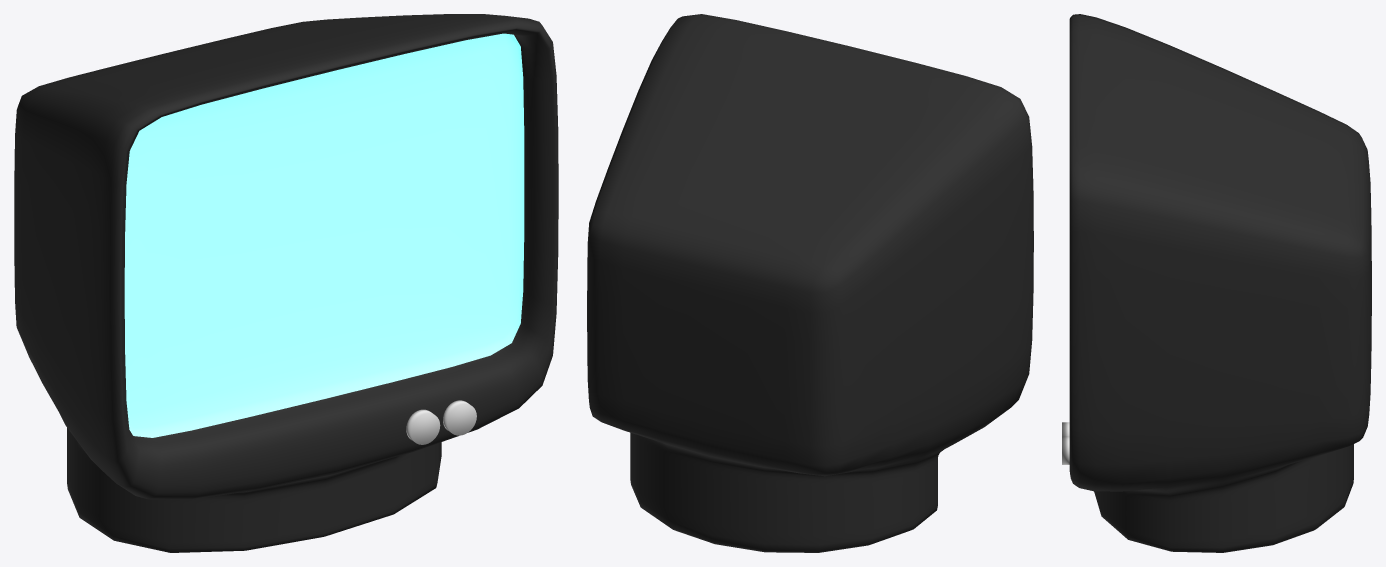
3 views of the same model, side by side, from view 1: azimuth 30°, elevation 25°; view 2: azimuth 150°, elevation 25°; view 3: azimuth 270°, elevation 25° (orthographic). The views are drawn at different scales.
Parts seen in each view (by area): view 1: TV, Button2, Button1; view 2: TV; view 3: TV.
Boxes of the visible parts, left/top/right/bottom form: TV: left=14, top=14, right=558, bottom=552; Button2: left=406, top=409, right=440, bottom=444; Button1: left=443, top=400, right=476, bottom=435; TV: left=587, top=14, right=1033, bottom=552; TV: left=1069, top=14, right=1371, bottom=552.
Bounding box in the file's own units: 115 × 121 × 83.66.
